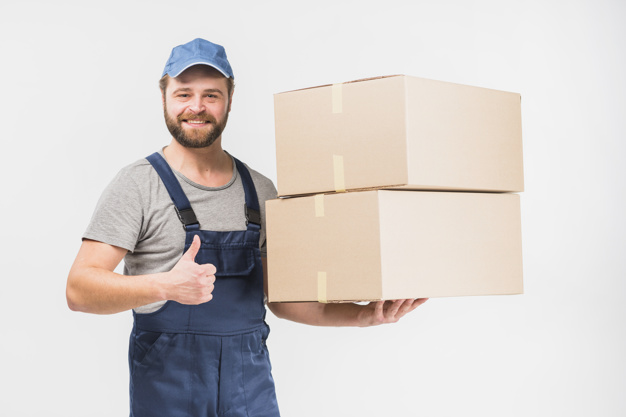thumbsup: (184, 234, 217, 305)
